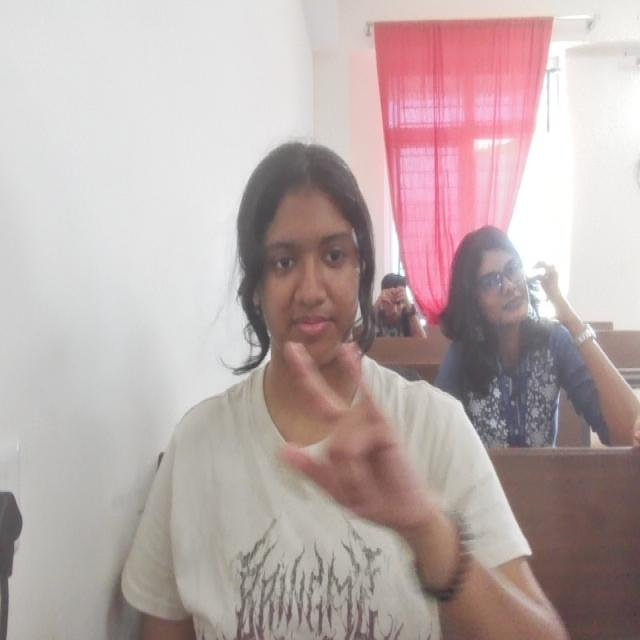iloveyou: (274, 331, 427, 532)
